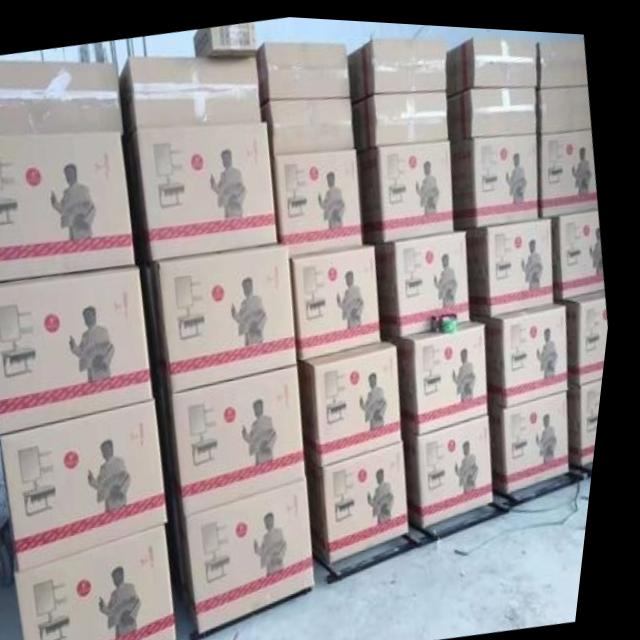box: (9, 400, 180, 570), (0, 262, 163, 438), (175, 470, 328, 631), (160, 361, 315, 513), (147, 240, 304, 389), (125, 116, 284, 257), (0, 126, 141, 281), (27, 520, 192, 640), (304, 335, 411, 463), (386, 311, 497, 430), (314, 436, 422, 557), (118, 52, 264, 139), (410, 408, 505, 522), (379, 221, 478, 330), (298, 238, 390, 354), (480, 289, 577, 399), (359, 133, 460, 237), (276, 144, 367, 256), (467, 209, 559, 310), (0, 59, 126, 131), (453, 126, 544, 221), (497, 383, 580, 485), (256, 38, 352, 104), (349, 35, 448, 99), (263, 91, 358, 152), (354, 84, 450, 144), (541, 120, 601, 209), (447, 32, 540, 89), (553, 202, 610, 292), (449, 80, 542, 131), (571, 284, 614, 376), (577, 372, 610, 456), (539, 77, 593, 125), (538, 33, 588, 80), (193, 18, 257, 54)
